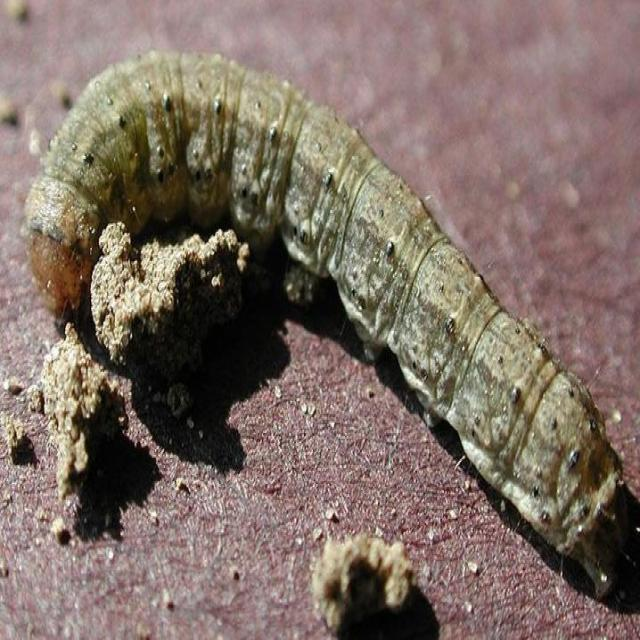black cutworm: (25, 44, 629, 573)
